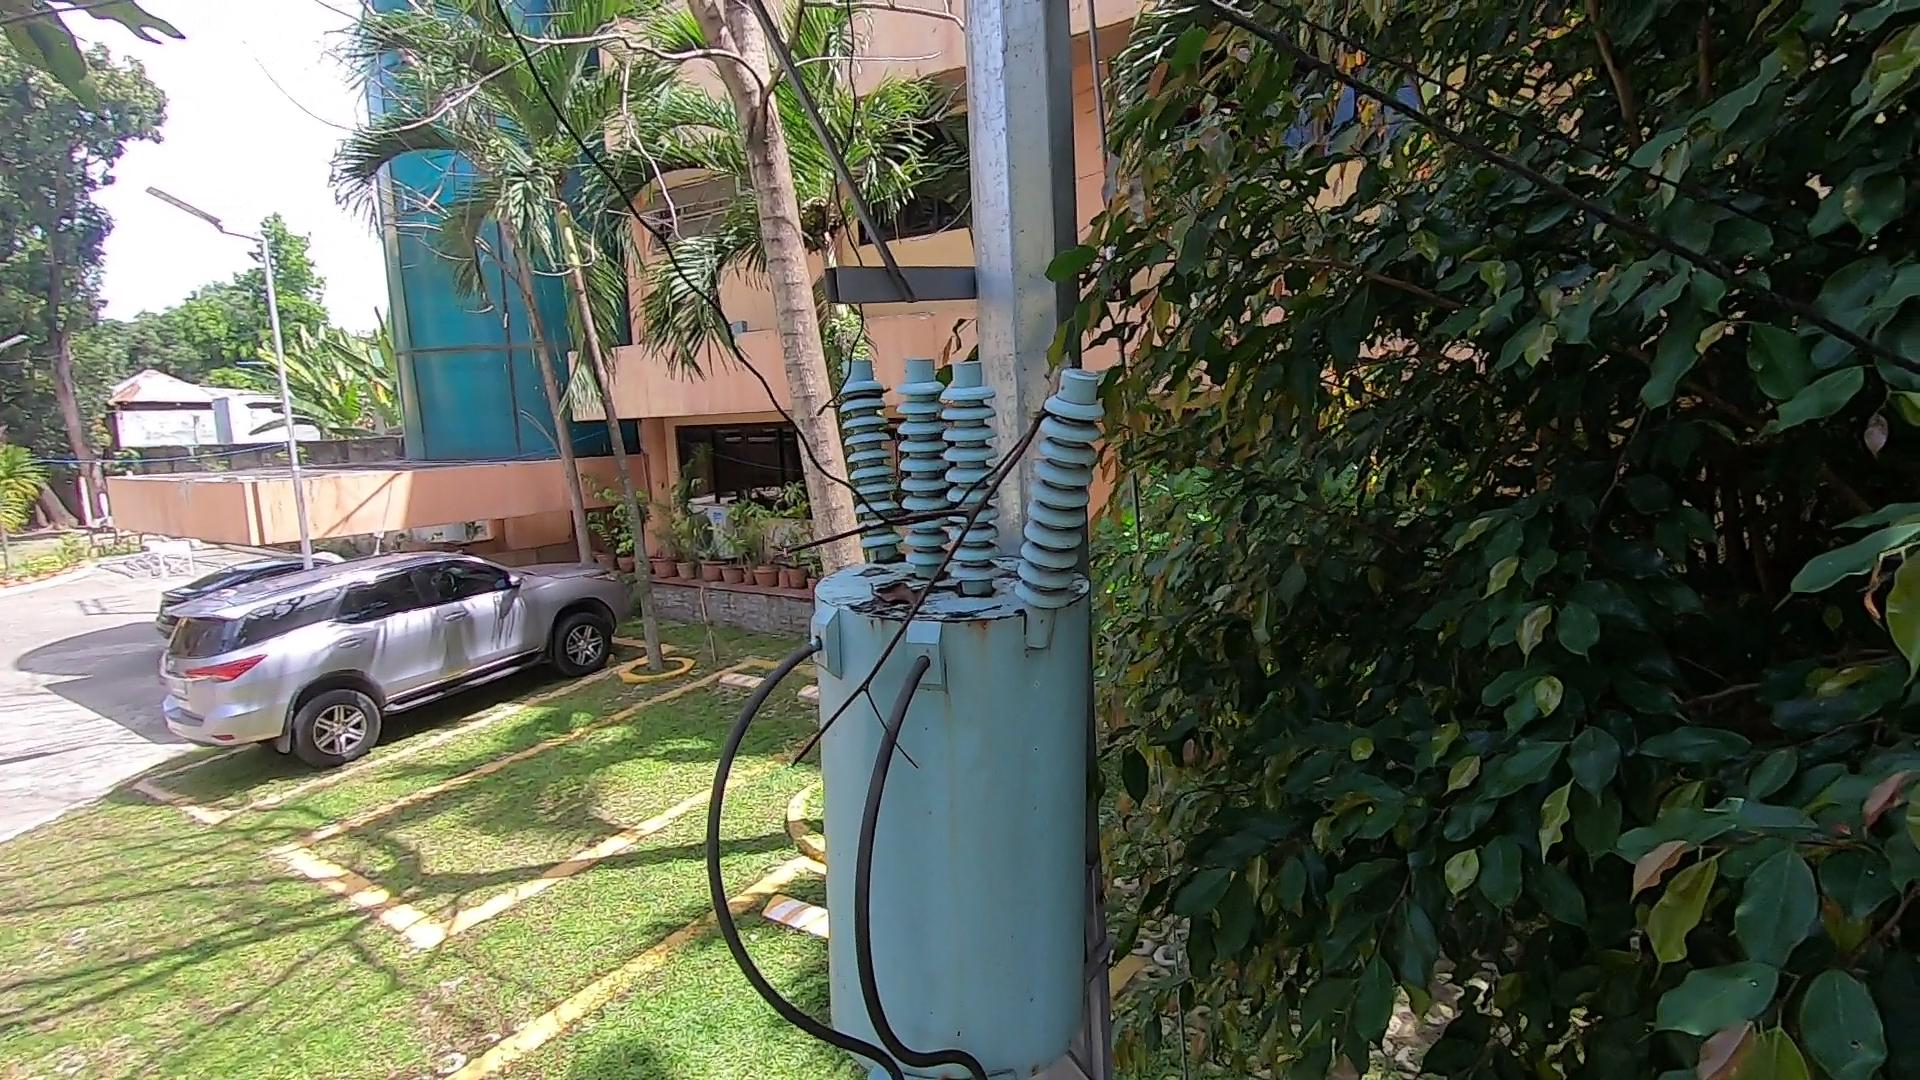leaf: (858, 571, 934, 616)
tree branch: (775, 353, 1081, 789)
